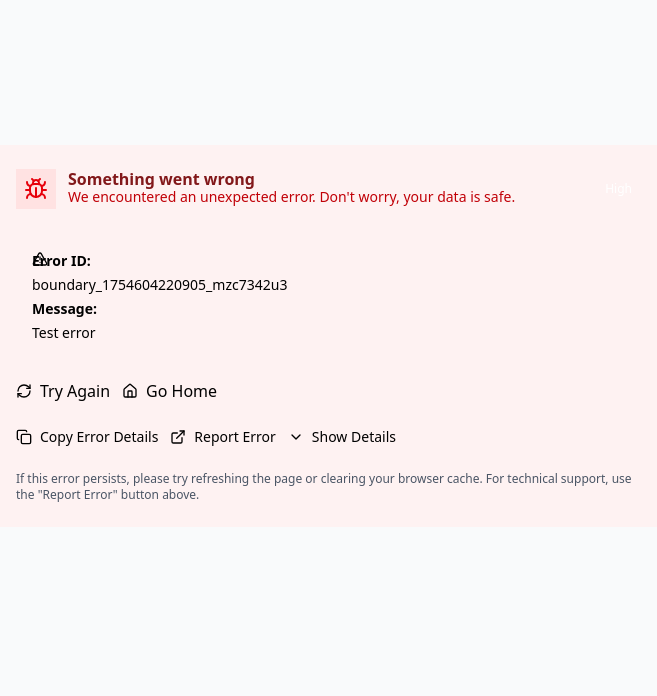
Test: Error Handling System › ErrorBoundary Component › should display error details when expanded
The width and height of the screenshot is (657, 696).
Click the button "Show Details".
click(342, 437)  # box [288, 427, 396, 447]
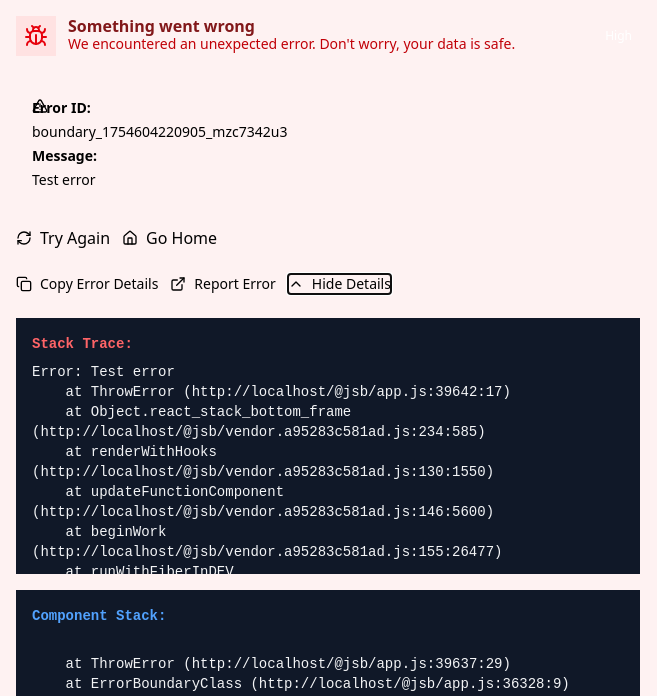
Expected: the text "Stack Trace:" is shown, [32, 336, 133, 352]
